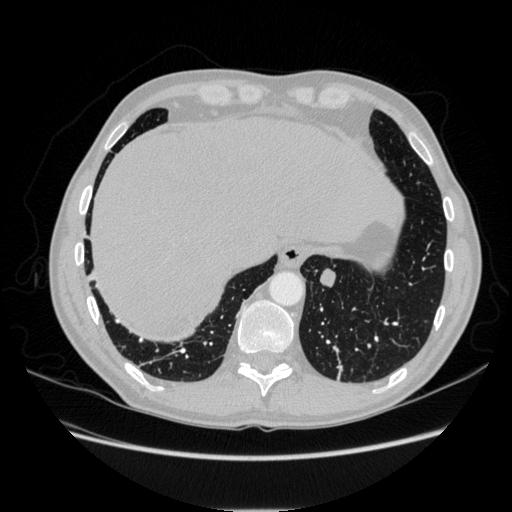nodule: (317, 267, 338, 288)
